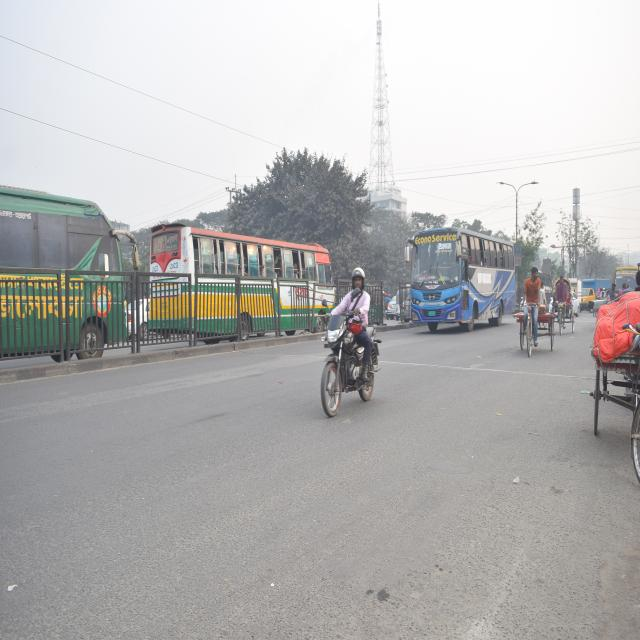bus: (2, 172, 133, 378), (147, 228, 341, 348), (407, 217, 527, 340), (610, 266, 640, 309)
car: (385, 282, 406, 330)
motorbike: (316, 259, 393, 430)
